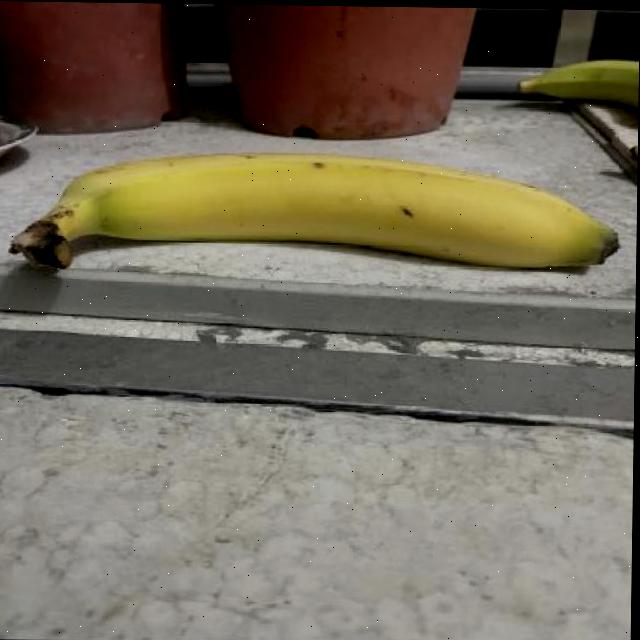banana: (7, 139, 635, 299)
